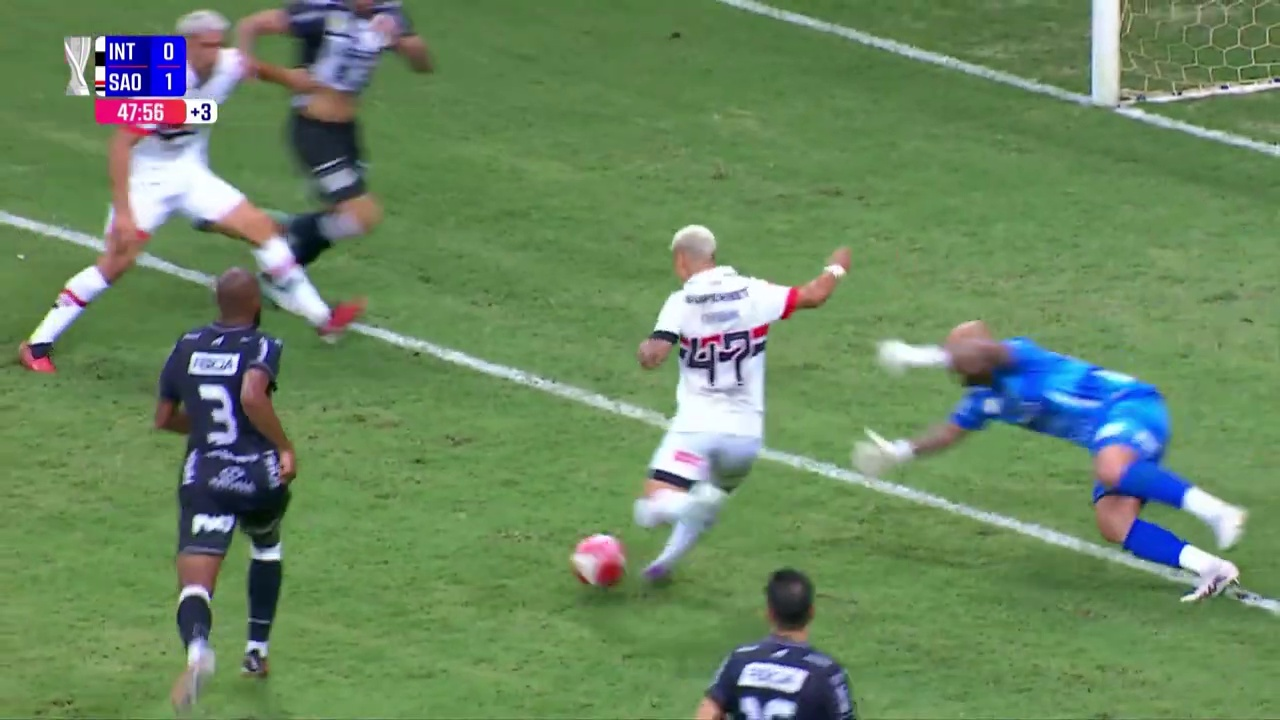ball: (319, 336, 353, 371)
